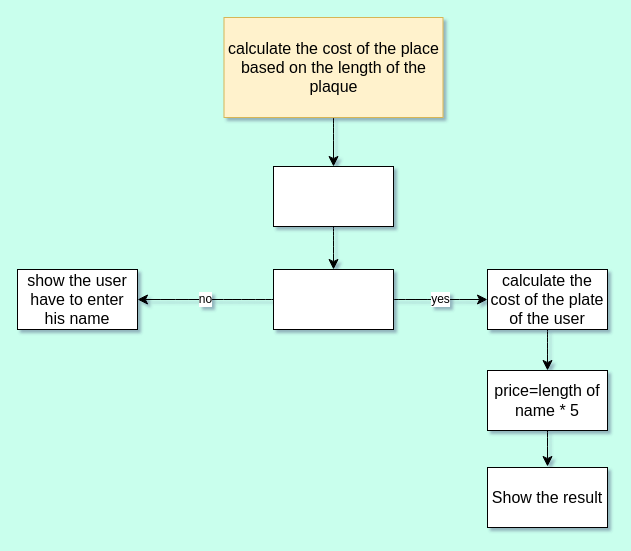
This 631x551 diagram has some shape labels left out. The shapes that lost their labels are listed below. From the top down, each one's centre as x and y in pixels, then its label:
point 333,196: when user click
point 333,299: He enter his name
